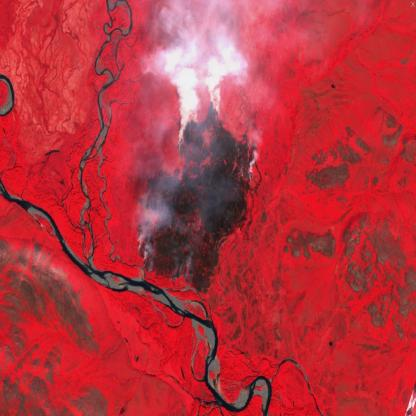fire: (134, 92, 256, 291)
